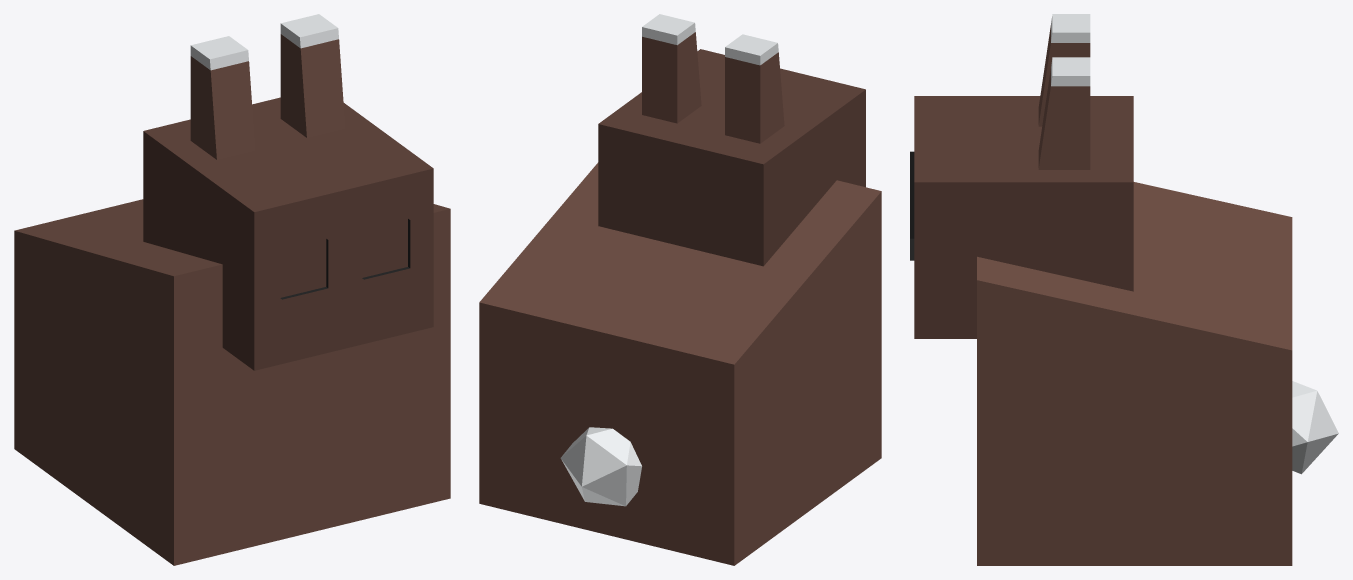
Rendered from rabbit_01.glb.
The picture shows the model from 3 angles, left to right: view 1: azimuth 30°, elevation 25°; view 2: azimuth 150°, elevation 25°; view 3: azimuth 270°, elevation 25°; orthographic projection. The views are drawn at different scales.
Visible parts, largest first — view 1: Icosphere; view 2: Icosphere; view 3: Icosphere.
Part boxes in pixels (<box>): Icosphere: <box>14,14,450,565</box>; Icosphere: <box>479,14,881,565</box>; Icosphere: <box>910,14,1338,565</box>.
Size of the model in its own units: 0.2742 by 0.4359 by 0.3727.
1 material, 1 textured.
